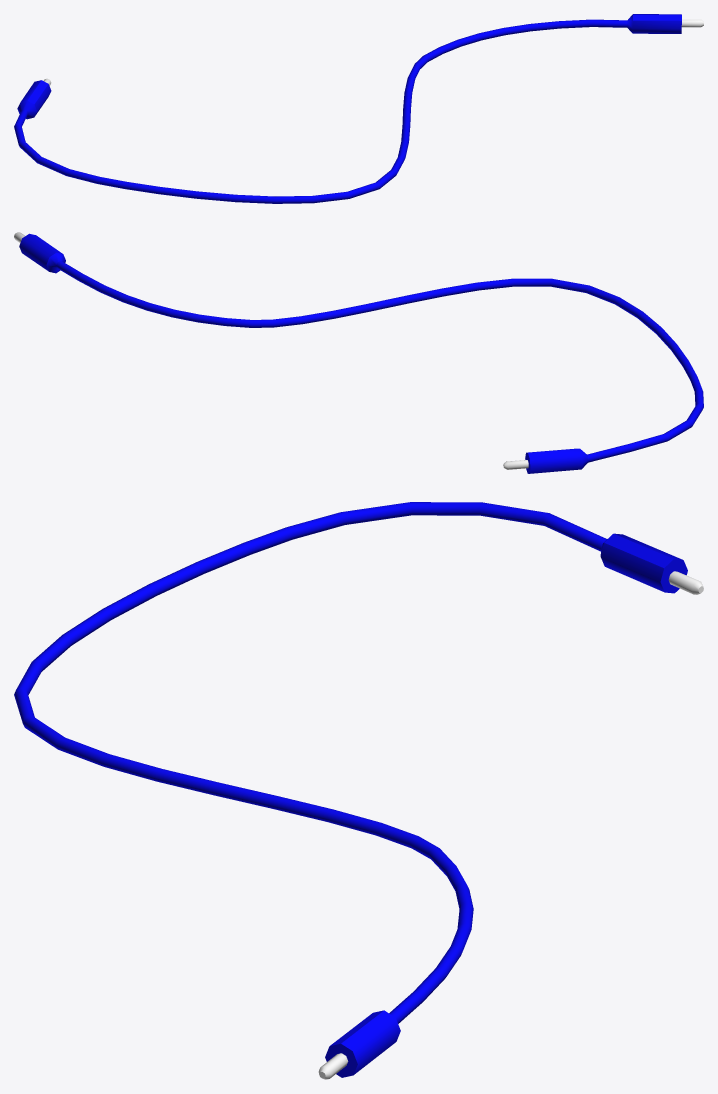
The model's file is ElectroWires02_3.FBX.
3 views of the same model, one above another, from view 1: azimuth 30°, elevation 25°; view 2: azimuth 150°, elevation 25°; view 3: azimuth 270°, elevation 25° (orthographic). The views are drawn at different scales.
Parts seen in each view (by area): view 1: Wires02; view 2: Wires02; view 3: Wires02.
Part boxes in pixels (x1,y1,x2,y2): Wires02: (14,14,703,203); Wires02: (14,232,703,473); Wires02: (14,502,703,1079).
Size of the model in its own units: 98.19 by 2.91 by 50.47.
